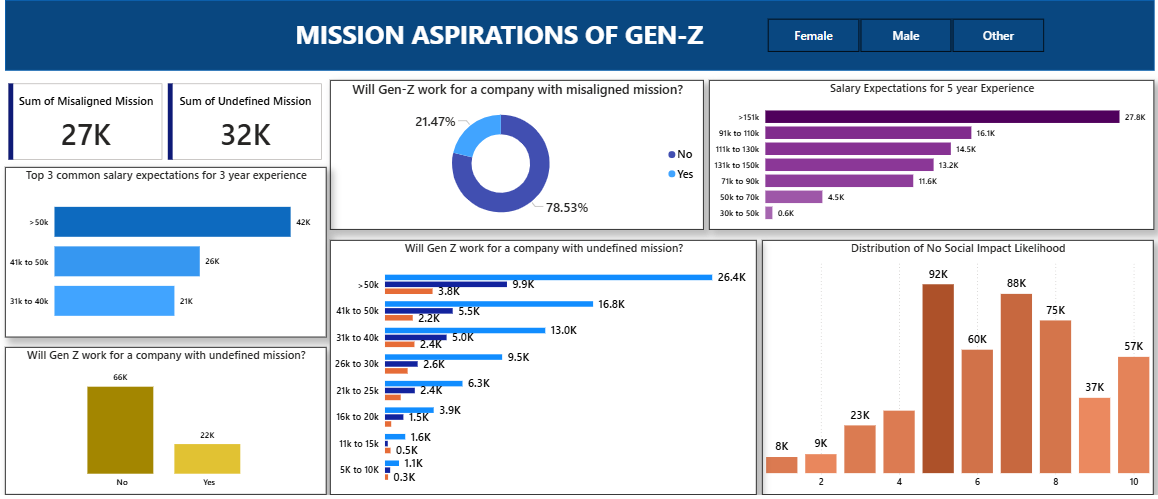

What the dashboard file says about the page in this screenshot:
{"tool":"powerbi","page":{"name":"Page 1","canvas":[1700,720],"ordinal":0},"visuals":[{"type":"shape","box":[11.1,0,1673.1,102.7],"z":0},{"type":"textbox","box":[415.5,19,632,61.6],"z":1000},{"type":"slicer","fields":{"Values":["Form responses 1.Gender"]},"box":[1096.5,20.5,451.9,61.6],"z":2000},{"type":"cardVisual","fields":{"Data":["Sum(Form responses 1.Misaligned Mission)","Sum(Form responses 1.Undefined Mission)"]},"box":[11.3,116.2,467.7,121.9],"z":3000},{"type":"barChart","title":"Top 3 common salary expectations for 3 year experience","fields":{"Category":["Form responses 1.Min Expected Monthly Salary (First 3 Years)"],"Y":["CountNonNull(Form responses 1.Min Expected Monthly Salary (First 3 Years))"]},"box":[11.3,242.4,467.7,248],"z":4000},{"type":"donutChart","title":"Will Gen-Z work for a company with misaligned mission?","fields":{"Y":["CountNonNull(Form responses 1.Likelihood of Working for a Company with a Misaligned Mission and Actions)"],"Category":["Form responses 1.Likelihood of Working for a Company with a Misaligned Mission and Actions"]},"box":[484.7,116.2,544.3,218.3],"z":5000},{"type":"barChart","title":"Salary Expectations for 5 year Experience","fields":{"Category":["Form responses 1.Min Expected Monthly Salary (After 5 Years)"],"Y":["CountNonNull(Form responses 1.Min Expected Monthly Salary (After 5 Years))"]},"box":[1036.1,116.2,647.7,218.3],"z":6000},{"type":"columnChart","title":"Distribution of No Social Impact Likelihood","fields":{"Category":["Form responses 1.Likelihood of Working for a Company with No Social Impact Mission"],"Y":["Sum(Form responses 1.Likelihood of Working for a Company with No Social Impact Mission)"]},"box":[1114,348.7,569.8,371.3],"z":7000},{"type":"columnChart","title":"Will Gen Z work for a company with undefined mission?","fields":{"Category":["Form responses 1.Willingness to Work for a Company with an Undefined Mission"],"Y":["CountNonNull(Form responses 1.Willingness to Work for a Company with an Undefined Mission)"]},"box":[11.3,504.6,467.7,215.4],"z":8000},{"type":"clusteredBarChart","title":"Will Gen Z work for a company with undefined mission?","fields":{"Category":["Form responses 1.Min Expected Monthly Salary (First 3 Years)"],"Y":["CountNonNull(Form responses 1.Min Expected Monthly Salary (First 3 Years))"],"Series":["Form responses 1.Likelihood of Staying with One Employer for 7+ Years"]},"box":[484.7,348.7,620.8,371.3],"z":9000}]}

Visuals, with their boxes in screenshot pixels (x1, y1, x2, y2), scaled from the page's 1700x720 canvas onto the 1158x499 screenshot:
shape: 8/0/1147/71
textbox: 283/13/714/56
slicer - Form responses 1.Gender: 747/14/1055/57
cardVisual - Sum(Form responses 1.Misaligned Mission) x Sum(Form responses 1.Undefined Mission): 8/81/326/165
"Top 3 common salary expectations for 3 year experience" barChart: 8/168/326/340
"Will Gen-Z work for a company with misaligned mission?" donutChart: 330/81/701/232
"Salary Expectations for 5 year Experience" barChart: 706/81/1147/232
"Distribution of No Social Impact Likelihood" columnChart: 759/242/1147/498
"Will Gen Z work for a company with undefined mission?" columnChart: 8/350/326/498
"Will Gen Z work for a company with undefined mission?" clusteredBarChart: 330/242/753/498
